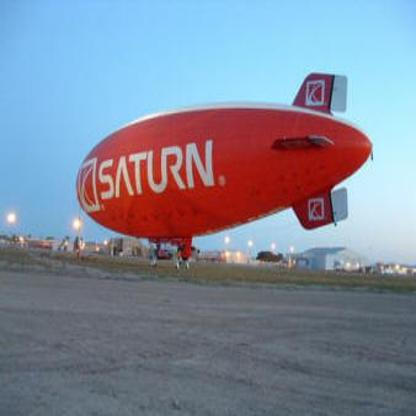Airship: (72, 69, 377, 263)
